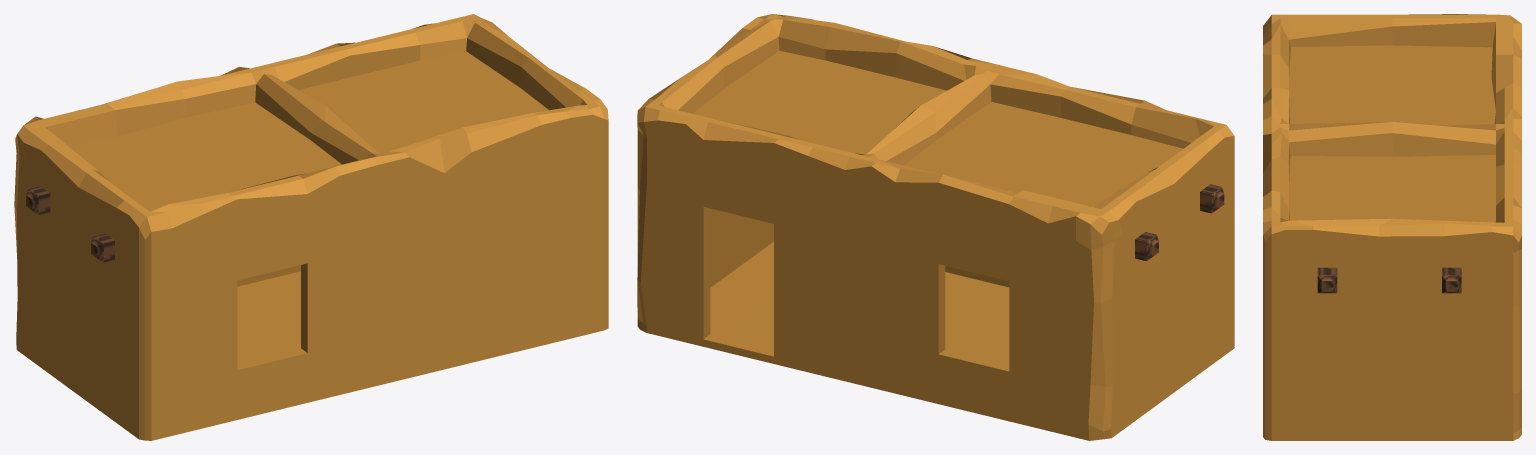
File: Building_M3.fbx
3 renders of one model, left to right at view 1: azimuth 30°, elevation 25°; view 2: azimuth 150°, elevation 25°; view 3: azimuth 270°, elevation 25°, orthographic. The views are drawn at different scales.
Visible parts, largest first — view 1: Plane.014; view 2: Plane.014; view 3: Plane.014.
Boxes of the visible parts, x1,y1,x2,y2 form: Plane.014: (14,14,608,440); Plane.014: (637,14,1234,440); Plane.014: (1263,14,1521,440).
Bounding box in the file's own units: 215 × 93.3 × 100.
